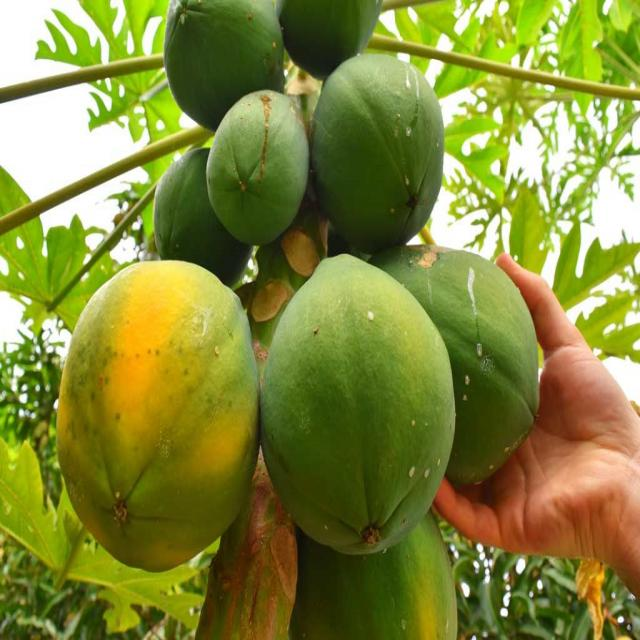Pepaya rippen: (57, 262, 264, 588)
Pepaya unrippen: (259, 250, 457, 569), (316, 54, 440, 245), (208, 89, 312, 235)
